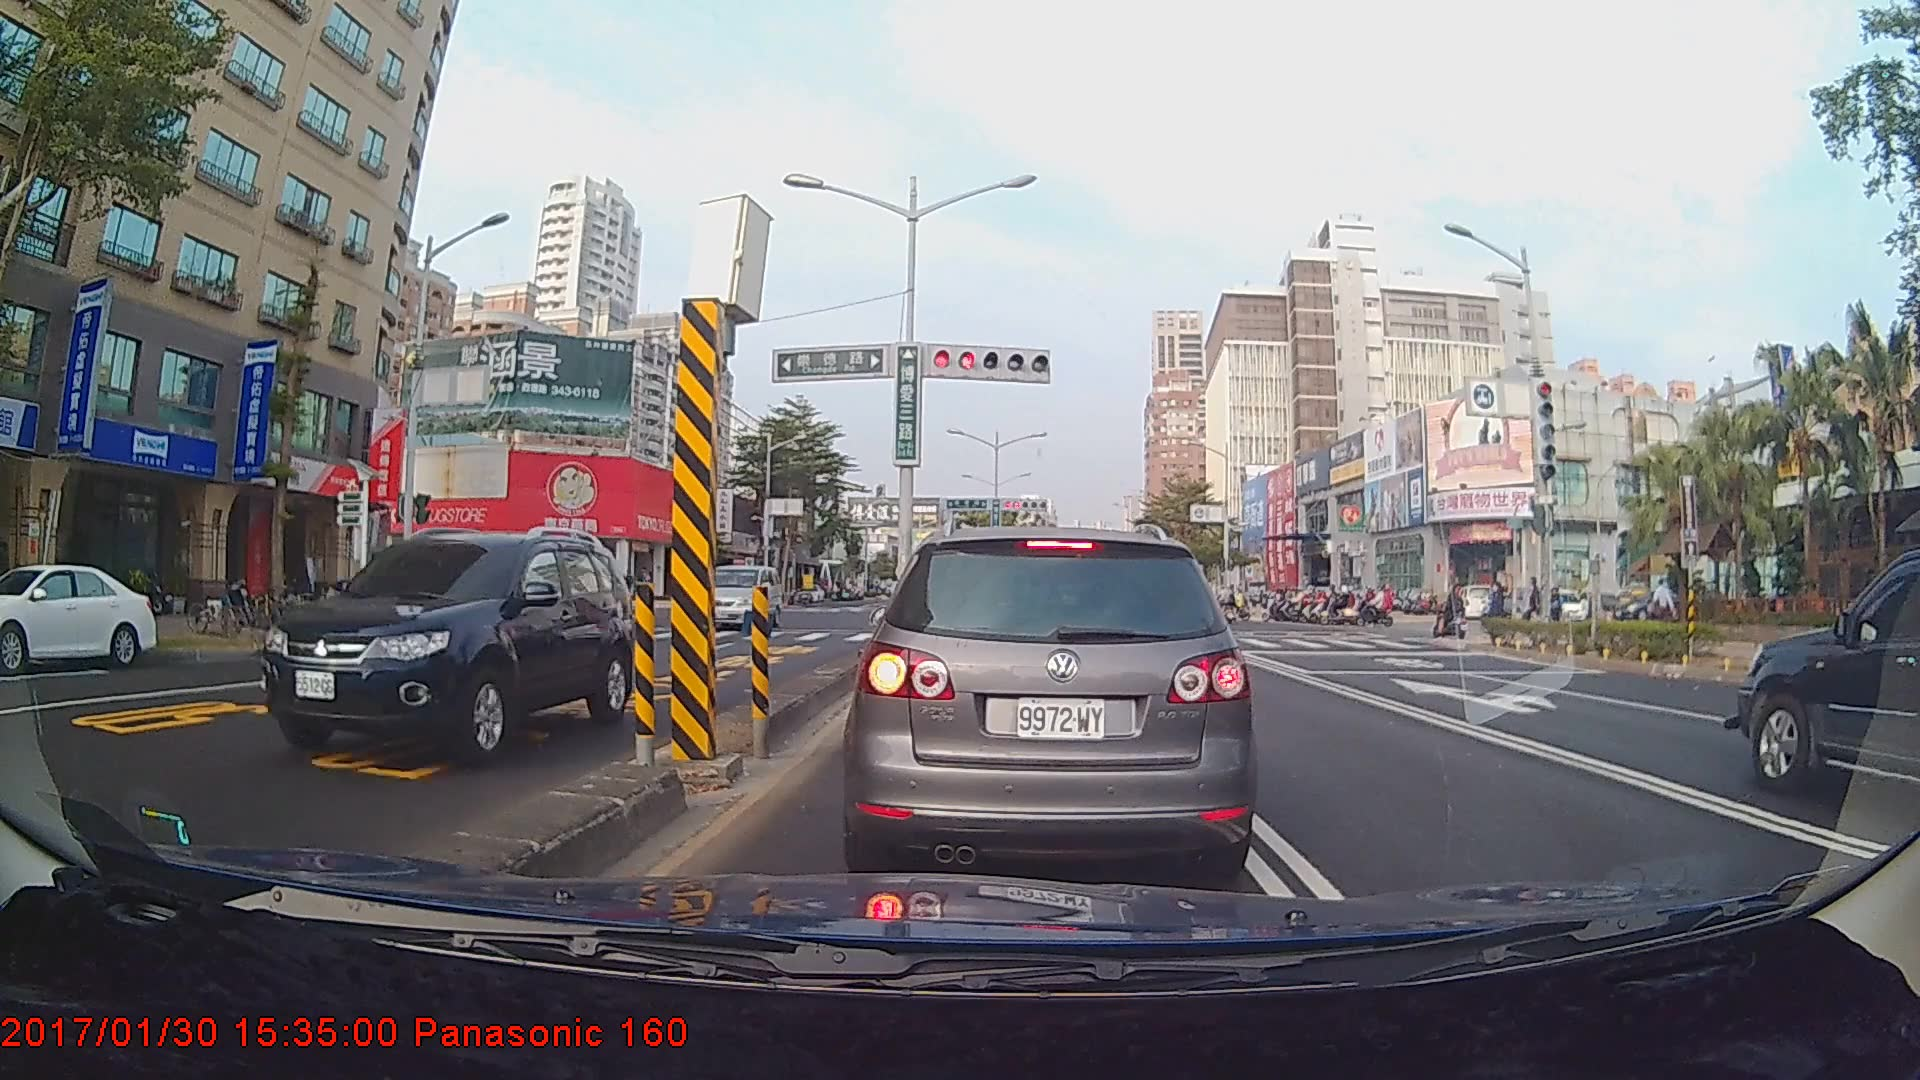pedestrian: (1651, 577, 1680, 635)
rider: (1431, 583, 1469, 638)
vehicle: (836, 514, 1262, 881), (257, 526, 631, 768), (1736, 528, 1920, 800), (0, 561, 157, 676), (693, 562, 781, 632)
